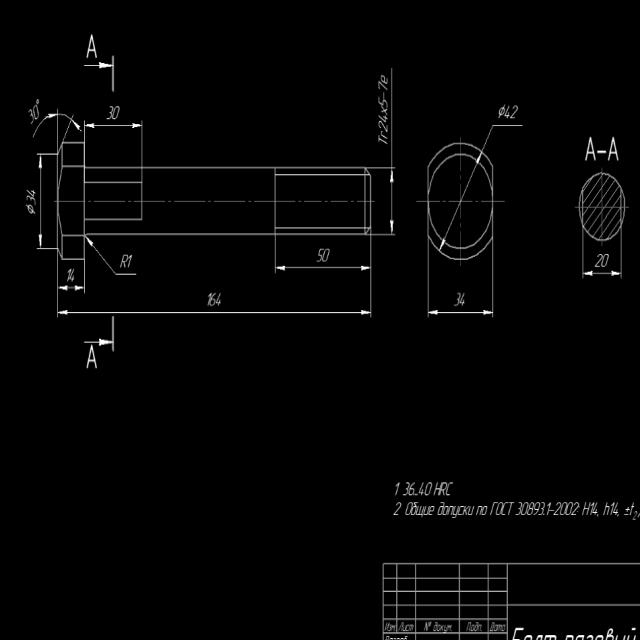marking_line: (87, 236, 141, 285), (58, 309, 370, 317), (35, 111, 83, 143), (276, 265, 370, 272), (580, 269, 624, 281), (38, 156, 43, 249), (81, 59, 113, 73), (85, 122, 141, 130), (389, 170, 395, 234), (429, 310, 492, 316), (78, 337, 114, 347), (57, 285, 86, 293)
numeric: (374, 75, 392, 130), (26, 98, 41, 123), (591, 254, 611, 272), (204, 292, 226, 307), (107, 103, 122, 123), (453, 288, 467, 308), (313, 246, 329, 263), (66, 265, 79, 285), (505, 105, 519, 120), (25, 188, 38, 204)
special_symbol: (496, 104, 507, 120)
